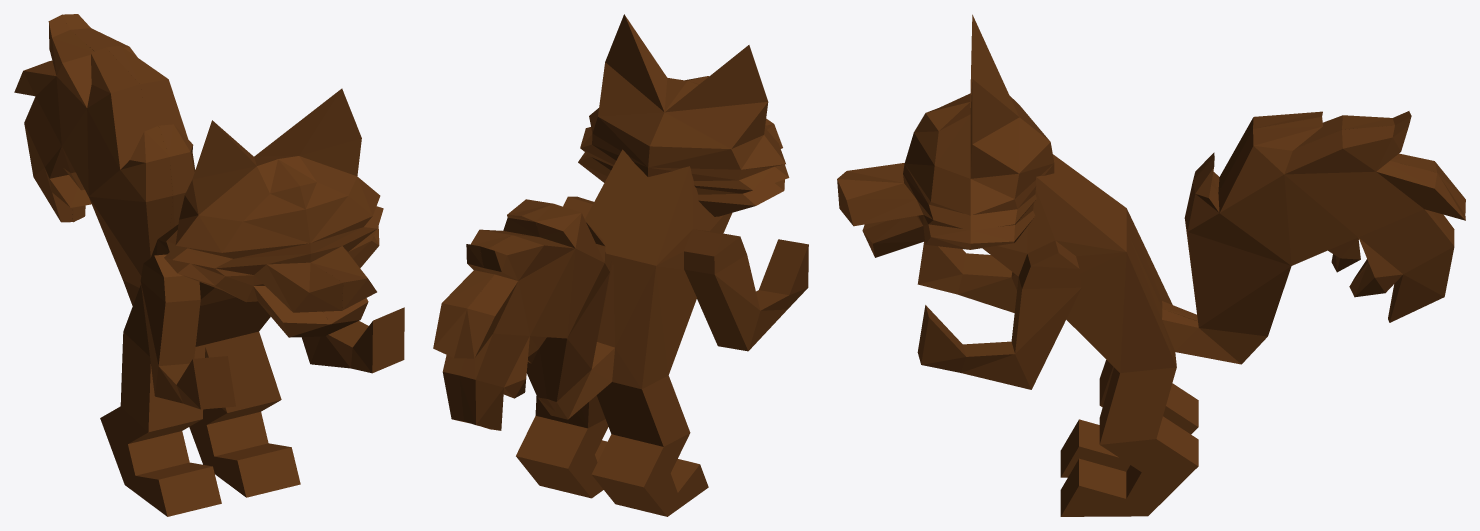
The model's file is wolf_4.dae.
3 views of the same model, side by side, from view 1: azimuth 30°, elevation 25°; view 2: azimuth 150°, elevation 25°; view 3: azimuth 270°, elevation 25° (orthographic). The views are drawn at different scales.
Parts seen in each view (by area): view 1: Body.001, Body, Face.001, Face; view 2: Body.001, Body, Face.001, Face; view 3: Body, Face, Body.001, Face.001.
Boxes of the visible parts, x1,y1,x2,y2 form: Body.001: (14,14,240,516); Body: (51,14,404,497); Face.001: (164,120,343,337); Face: (254,88,383,336); Body.001: (454,166,808,516); Body: (433,149,647,498); Face.001: (648,45,789,216); Face: (578,14,705,182); Body: (917,116,1465,516); Face: (837,79,1054,257); Body.001: (917,111,1465,477); Face.001: (837,14,1049,230).
Size of the model in its own units: 2.98 by 7.5 by 5.75.
